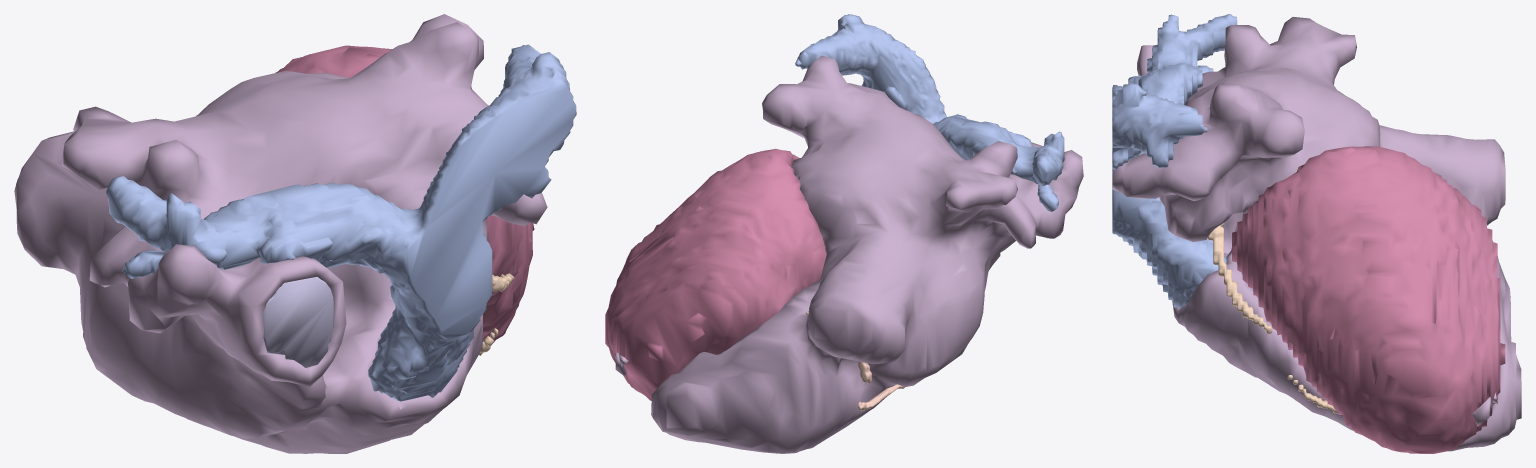
3 views of the same model, side by side, from view 1: azimuth 30°, elevation 25°; view 2: azimuth 150°, elevation 25°; view 3: azimuth 270°, elevation 25° (orthographic). The views are drawn at different scales.
Visible parts, largest first — view 1: heart-wall, pulmonary-artery, myocardium, right-atrium; view 2: heart-wall, myocardium, pulmonary-artery, right-coronary-artery; view 3: myocardium, heart-wall, pulmonary-artery, left-coronary-artery.
Part boxes in pixels (x1,y1,x2,y2): heart-wall: (14, 14, 547, 453); pulmonary-artery: (105, 44, 576, 401); myocardium: (275, 45, 534, 345); right-atrium: (263, 277, 333, 367); heart-wall: (614, 55, 1083, 453); myocardium: (605, 148, 826, 400); pulmonary-artery: (795, 14, 1064, 211); right-coronary-artery: (806, 311, 904, 410); myocardium: (1232, 146, 1505, 453); heart-wall: (1112, 17, 1521, 451); pulmonary-artery: (1112, 14, 1237, 308); left-coronary-artery: (1208, 223, 1338, 413).
Bounding box in the file's own units: 137 × 118 × 123.
